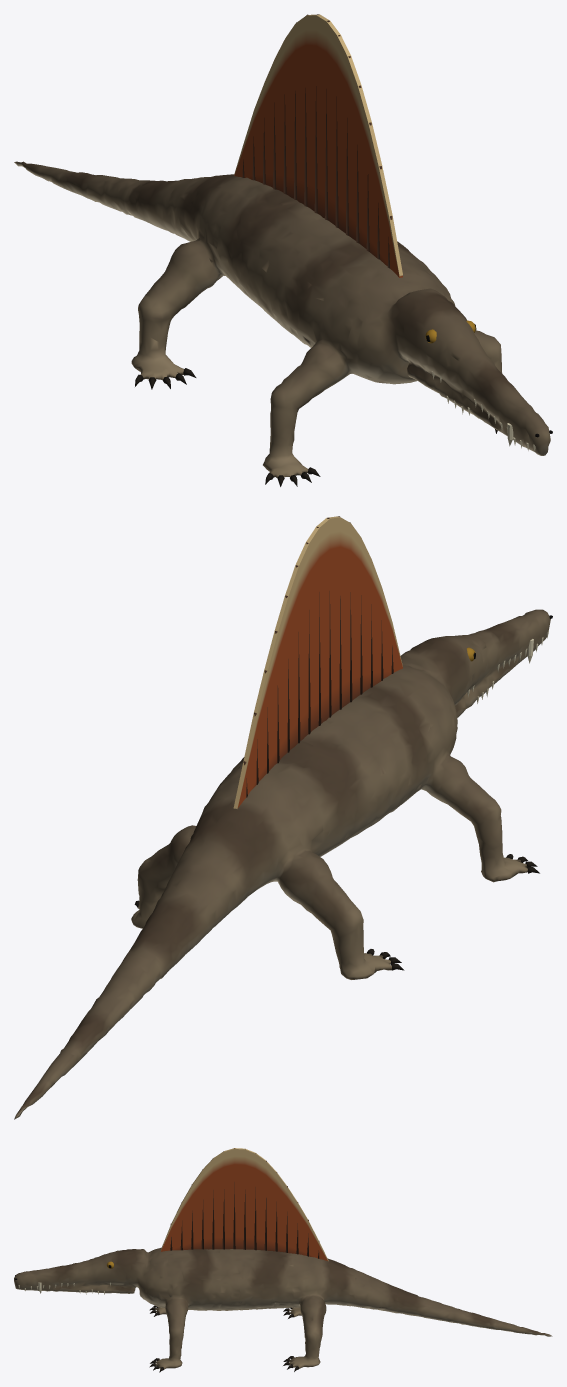
The model's file is Secodontosaurus.fbx.
The picture shows the model from 3 angles, top to bottom: view 1: azimuth 30°, elevation 25°; view 2: azimuth 150°, elevation 25°; view 3: azimuth 270°, elevation 25°; orthographic projection. The views are drawn at different scales.
Parts seen in each view (by area): view 1: Secodontosaurus; view 2: Secodontosaurus; view 3: Secodontosaurus.
Boxes of the visible parts, x1,y1,x2,y2 form: Secodontosaurus: (14, 14, 552, 486); Secodontosaurus: (14, 516, 552, 1119); Secodontosaurus: (14, 1148, 552, 1372).
Size of the model in its own units: 0.6121 by 0.8035 by 2.05.
